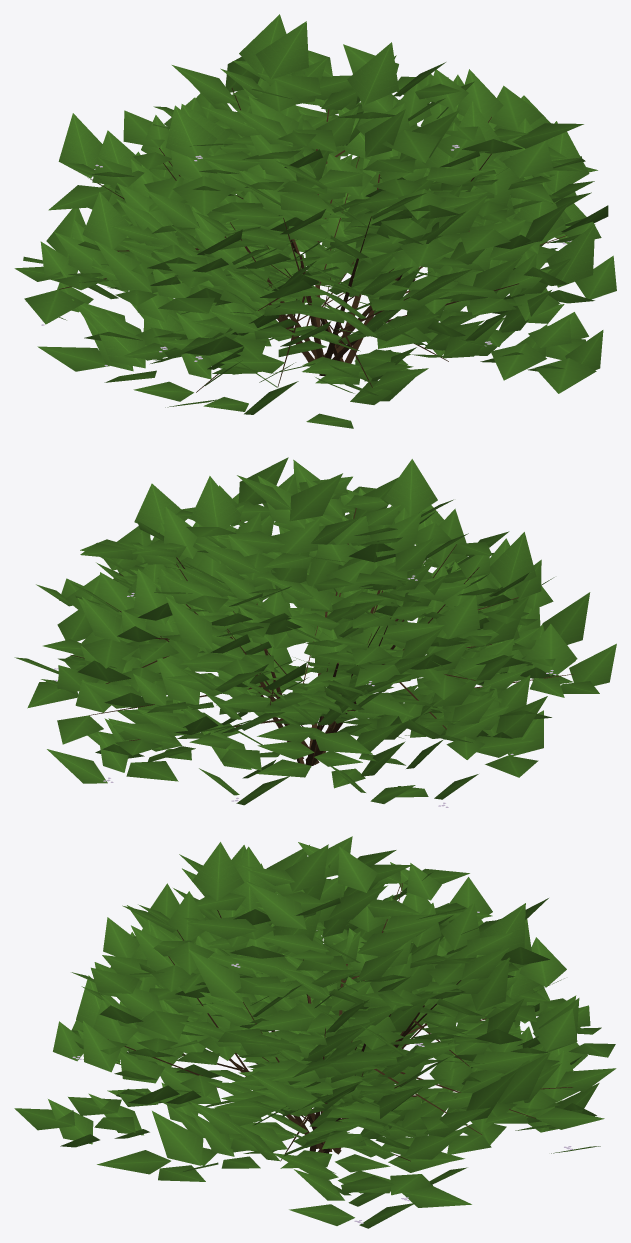
Rendered from SiamWeed_LOD1.fbx.
3 views of the same model, one above another, from view 1: azimuth 30°, elevation 25°; view 2: azimuth 150°, elevation 25°; view 3: azimuth 270°, elevation 25° (orthographic). The views are drawn at different scales.
Visible parts, largest first — view 1: Leaves_SiamWeed_LOD1; view 2: Leaves_SiamWeed_LOD1; view 3: Leaves_SiamWeed_LOD1.
Part boxes in pixels (<box>): Leaves_SiamWeed_LOD1: <box>14,14,616,428</box>; Leaves_SiamWeed_LOD1: <box>14,457,616,807</box>; Leaves_SiamWeed_LOD1: <box>14,836,616,1228</box>.
Size of the model in its own units: 192 by 101 by 191.
